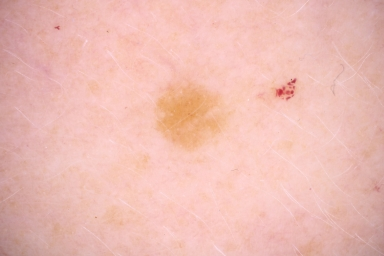melanoma: (157, 79, 221, 149)
